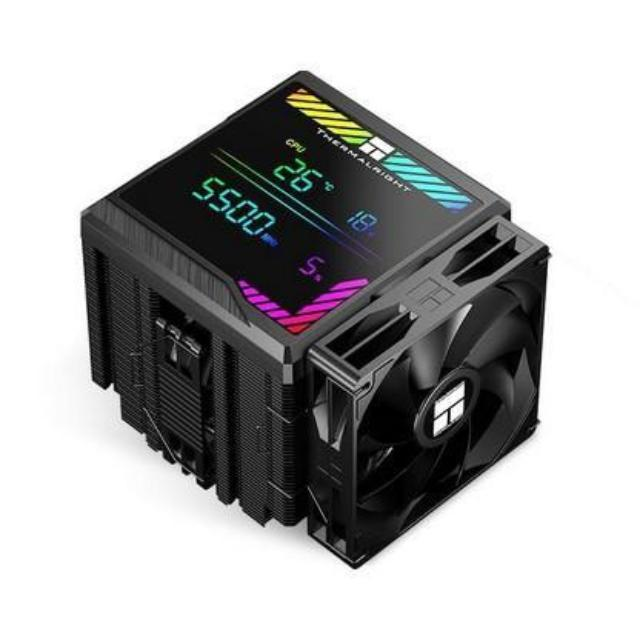CPU_Fan: (74, 68, 552, 577)
